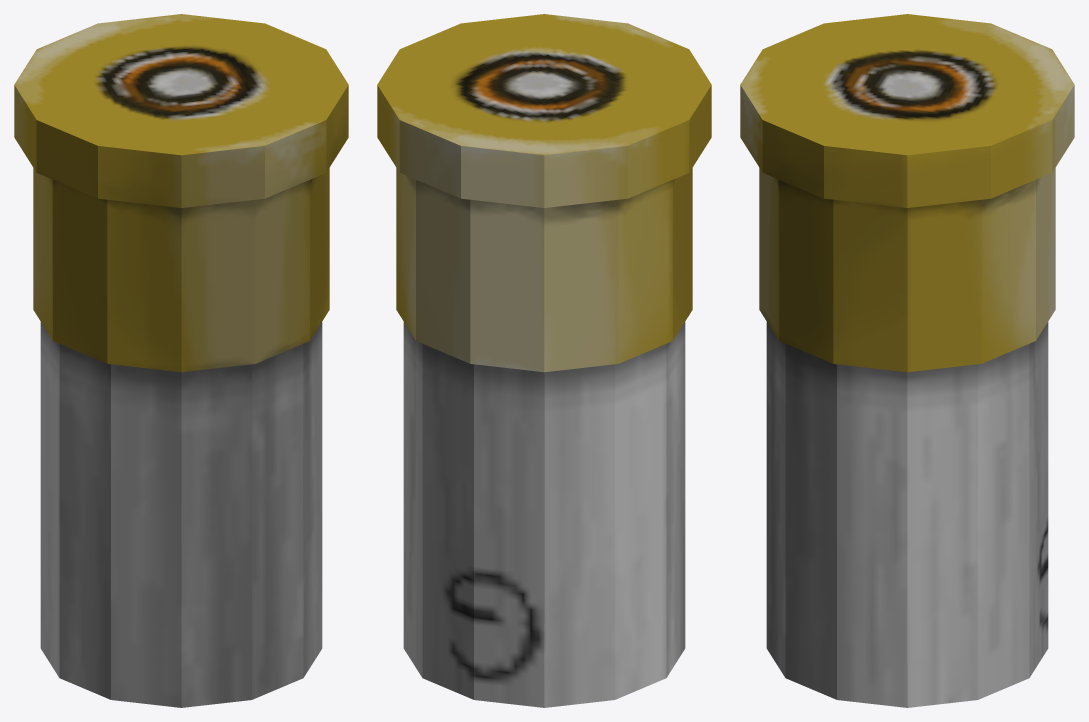
The model's file is Shell_Half.fbx.
3 views of the same model, side by side, from view 1: azimuth 30°, elevation 25°; view 2: azimuth 150°, elevation 25°; view 3: azimuth 270°, elevation 25° (orthographic).
Parts seen in each view (by area): view 1: Shell_Half; view 2: Shell_Half; view 3: Shell_Half.
Part boxes in pixels (bbox=[...]): Shell_Half: bbox=[14, 14, 348, 707]; Shell_Half: bbox=[377, 14, 711, 707]; Shell_Half: bbox=[740, 14, 1074, 707].
Bounding box in the file's own units: 0.2467 × 0.4588 × 0.2467.
